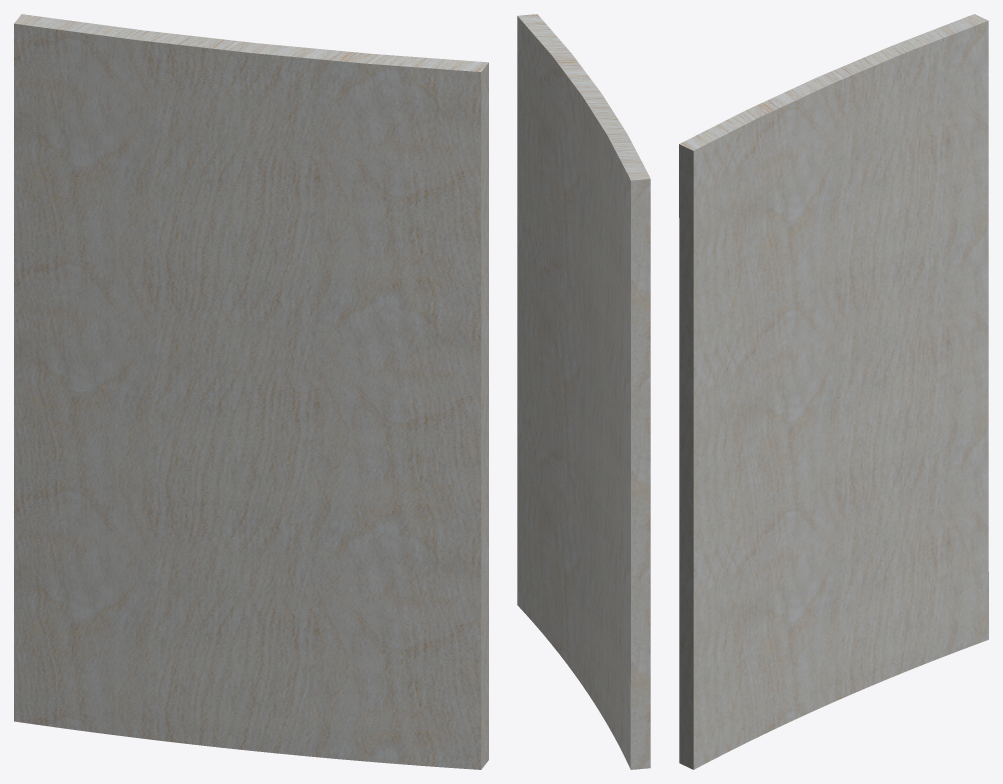
Rendered from Door - Copy.fbx.
3 renders of one model, left to right at view 1: azimuth 30°, elevation 25°; view 2: azimuth 150°, elevation 25°; view 3: azimuth 270°, elevation 25°, orthographic. The views are drawn at different scales.
Visible parts, largest first — view 1: SLIDING DOOR; view 2: SLIDING DOOR; view 3: SLIDING DOOR.
Part boxes in pixels (left/top/right/bottom): SLIDING DOOR: left=14, top=14, right=488, bottom=769; SLIDING DOOR: left=517, top=14, right=650, bottom=769; SLIDING DOOR: left=679, top=14, right=988, bottom=769.
Bounding box in the file's own units: 1.52 × 1.46 × 3.21.
1 material, 1 textured.
